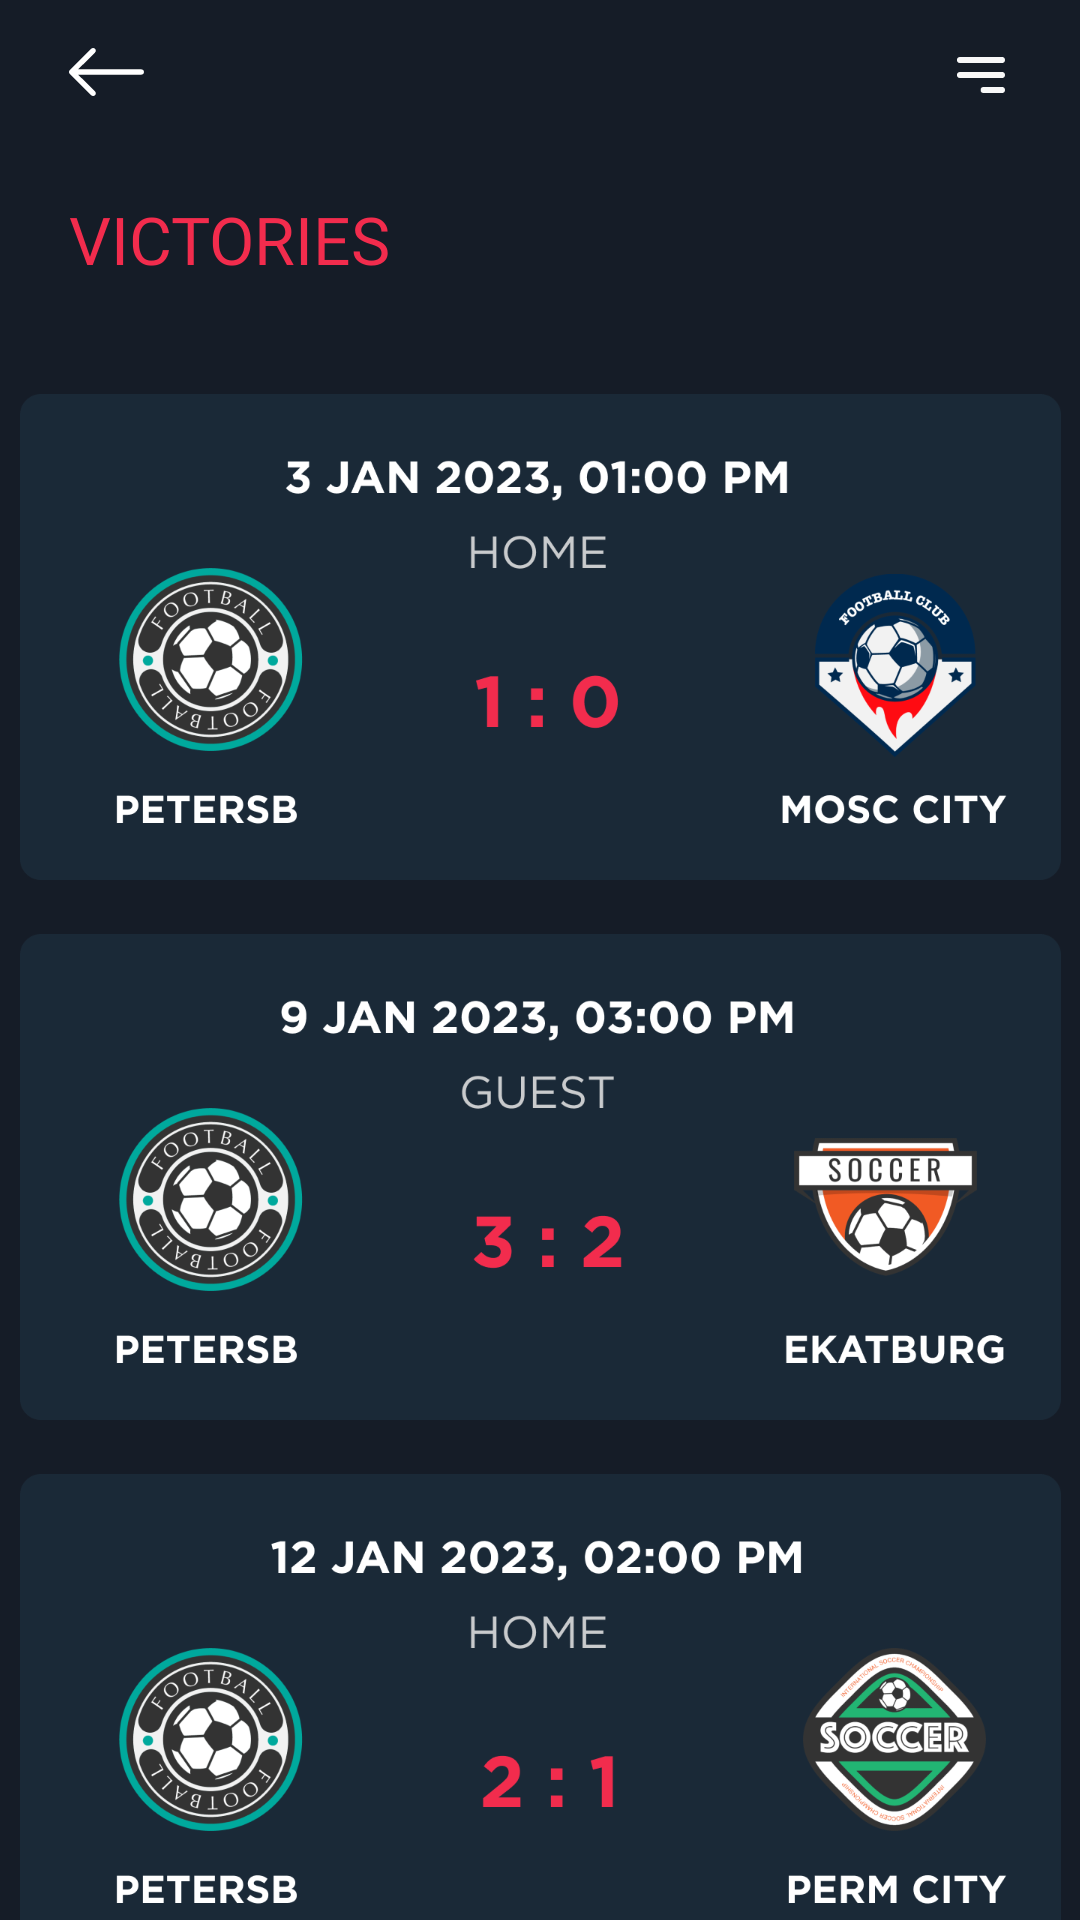

Named icons in this screenshot (1080*1920) and their centers, (x,y):
back: (106,72)
